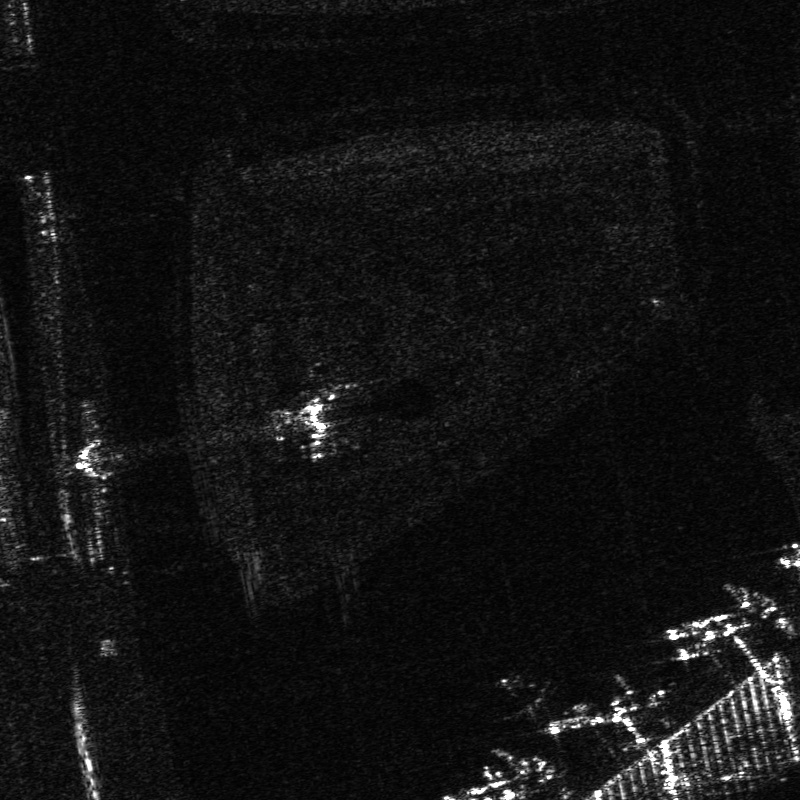Boeing787: (493, 669, 556, 722)
